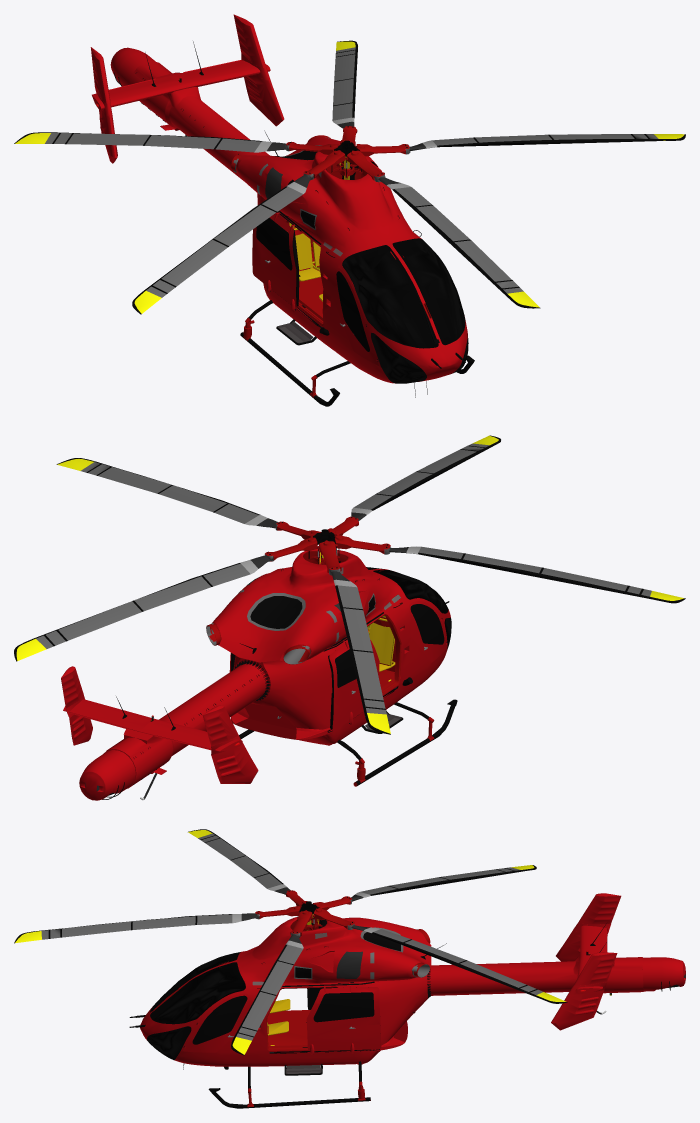
Rendered from helico.fbx.
3 renders of one model, top to bottom at view 1: azimuth 30°, elevation 25°; view 2: azimuth 150°, elevation 25°; view 3: azimuth 270°, elevation 25°, orthographic. The views are drawn at different scales.
Parts seen in each view (by area): view 1: object.001, rotor, object.006, Right_door, object.012, object.013, object.026; view 2: object.001, rotor, Right_door, object.006, object.013, object.012, object.027, object.008, object.026, object.016; view 3: object.001, rotor, object.006, Left_door, object.013, object.012, object.019, object.026.
Part boxes in pixels (x1,y1,x2,y2): object.001: [90, 14, 467, 383]; rotor: [14, 40, 685, 314]; object.006: [336, 238, 468, 383]; Right_door: [252, 203, 300, 311]; object.012: [135, 41, 474, 406]; object.013: [231, 135, 436, 397]; object.026: [293, 228, 322, 301]; object.001: [61, 549, 450, 800]; rotor: [14, 435, 685, 734]; Right_door: [328, 640, 379, 731]; object.006: [366, 567, 451, 650]; object.013: [206, 550, 434, 786]; object.012: [108, 561, 457, 795]; object.027: [235, 703, 296, 739]; object.008: [250, 596, 302, 628]; object.026: [368, 618, 395, 671]; object.016: [206, 589, 375, 664]; object.001: [140, 893, 685, 1066]; rotor: [14, 829, 567, 1055]; object.006: [147, 952, 247, 1059]; Left_door: [306, 985, 381, 1054]; object.013: [153, 917, 430, 1107]; object.012: [136, 919, 678, 1108]; object.019: [259, 917, 685, 1052]; object.026: [267, 999, 290, 1035].
Bounding box in the file's own units: 1248 × 442 × 1504.
